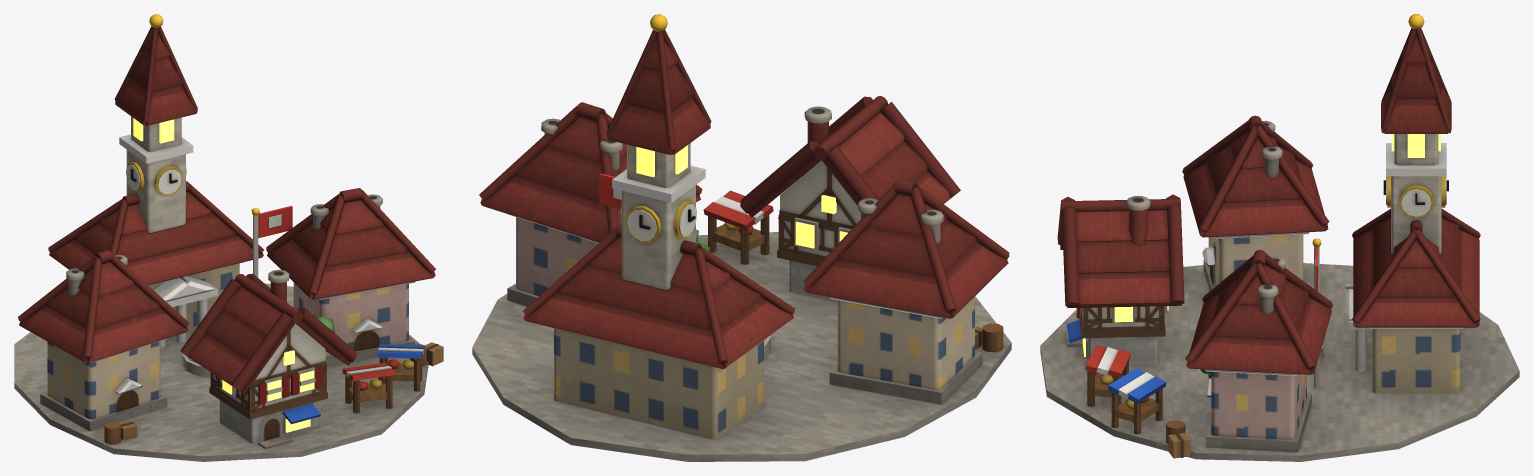
The model's file is city_dl4_red.glb.
3 views of the same model, side by side, from view 1: azimuth 30°, elevation 25°; view 2: azimuth 150°, elevation 25°; view 3: azimuth 270°, elevation 25° (orthographic). The views are drawn at different scales.
Visible parts, largest first — view 1: city_dl4_red; view 2: city_dl4_red; view 3: city_dl4_red.
Part boxes in pixels (<box>): city_dl4_red: <box>14,14,443,461</box>; city_dl4_red: <box>472,14,1011,461</box>; city_dl4_red: <box>1040,14,1519,461</box>.
Size of the model in its own units: 1.51 by 1.2 by 1.49.
2 materials, 1 textured.
